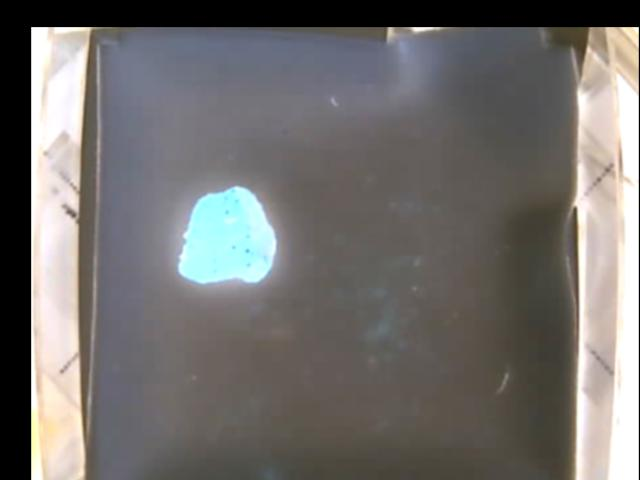Brisk: (179, 185, 273, 285)
